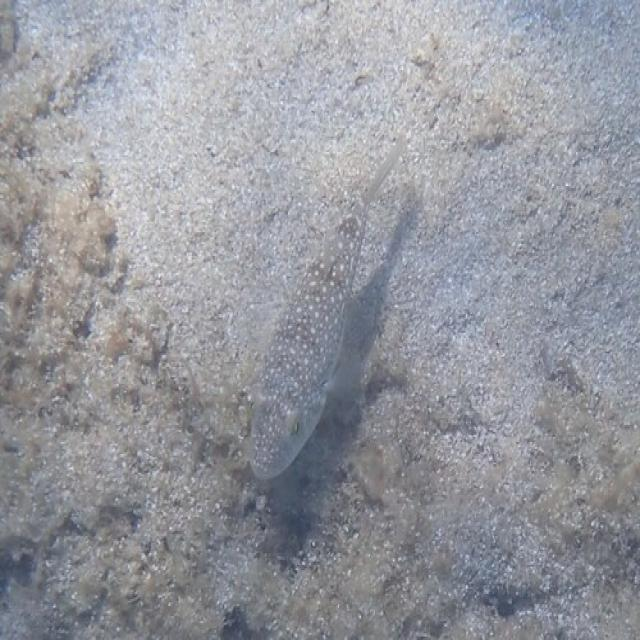Balik: (251, 139, 405, 479)
